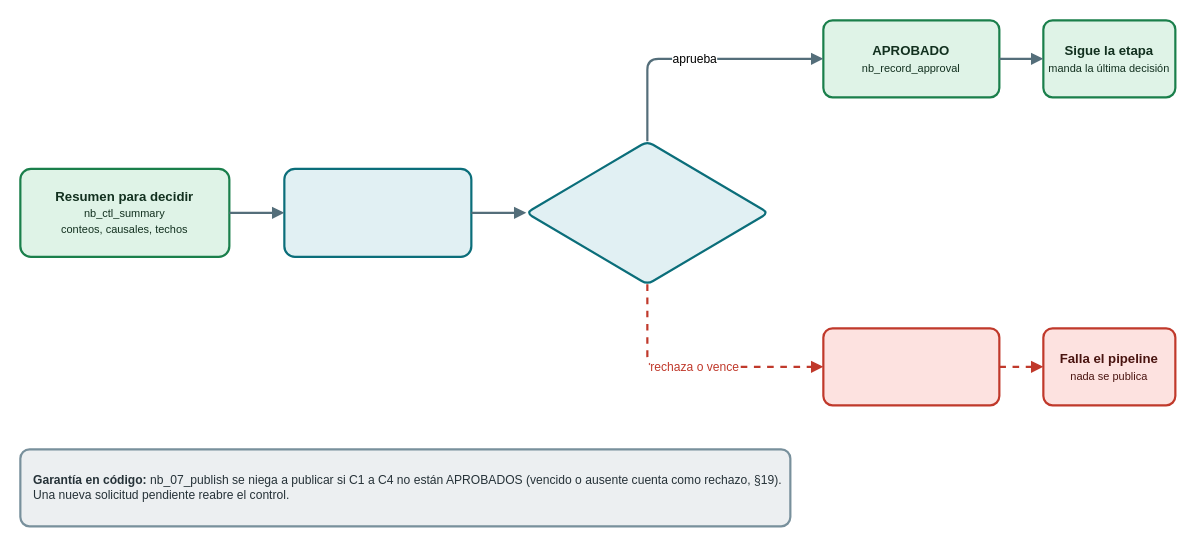
Image size: 1195x546. Some labels were removed from this diagram. The shapes that lost their labels are listed below. From the top down, each one's centre as x and y in pixels, then its label:
At (x=377, y=212): "Solicitud: PENDIENTE ctl.approvals".
At (x=647, y=212): "¿Quién decide? Plan A: Approval (Outlook/Teams) Plan B: Until + nb_approve".
At (x=911, y=366): "RECHAZADO o VENCIDO nb_record_approval".
